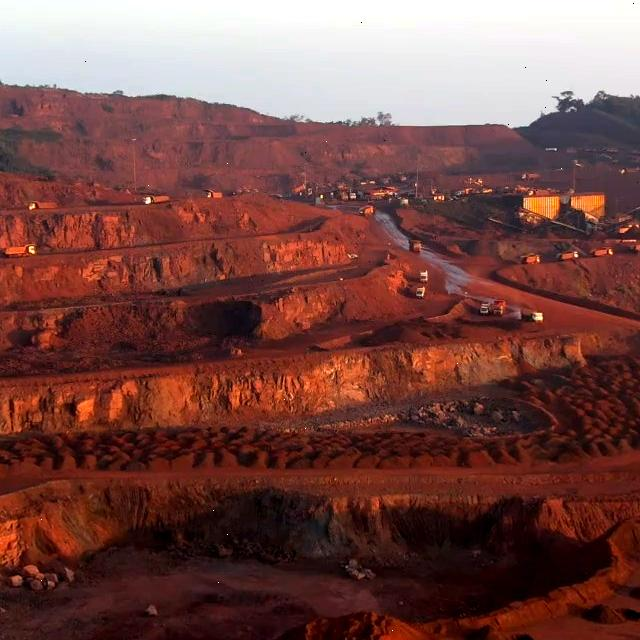Dumper truck: (4, 244, 34, 257), (143, 193, 171, 204), (29, 202, 61, 211), (557, 249, 579, 261), (203, 190, 226, 200), (592, 246, 614, 256), (521, 254, 540, 265), (493, 298, 505, 314), (629, 239, 640, 254), (415, 271, 430, 282), (414, 285, 426, 298)
car: (479, 303, 491, 314)
